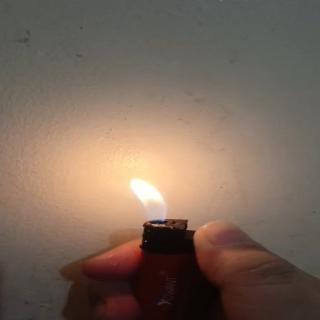fire: (114, 169, 188, 229)
